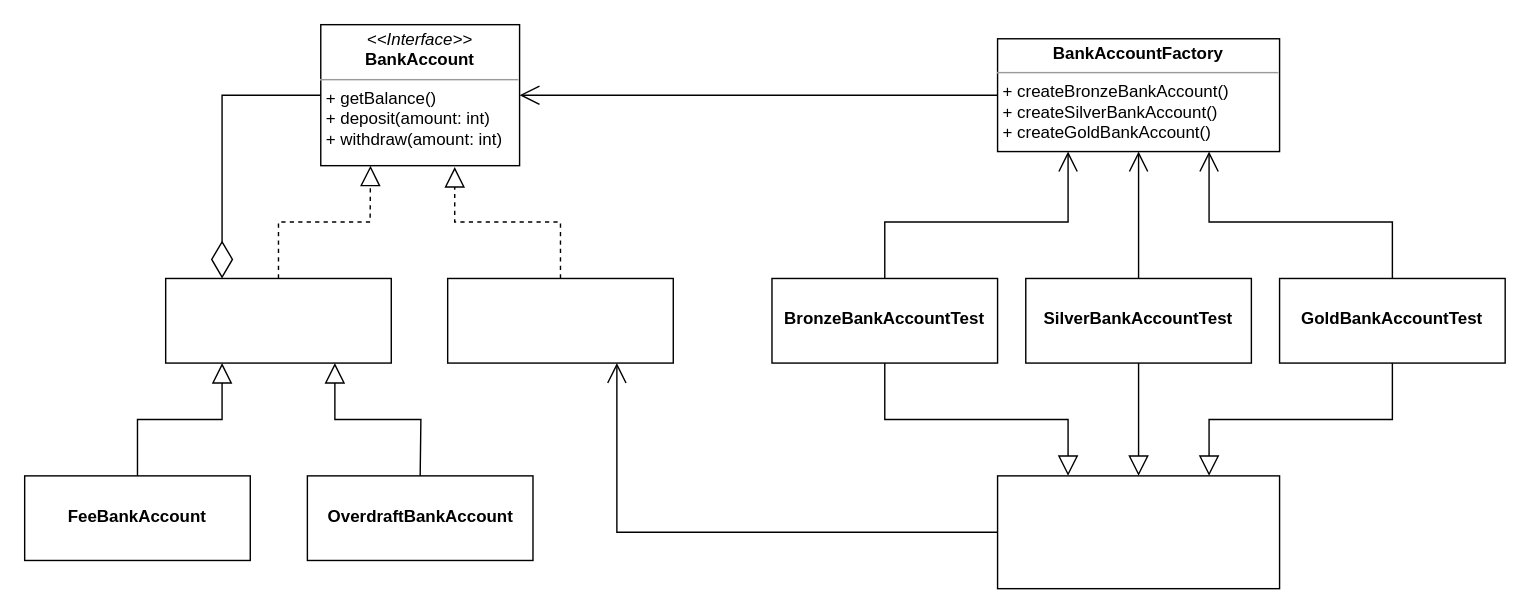
Some shapes in this 1530 by 613 pixel diagram are drawn without their labels. Here are the shapes that lost their labels. From the top down, the centre of each, then its label:
At point 277,320: "DecoratorBankAccount".
At point 559,320: "CoreBankAccount".
At point 1138,531: "CoreBankAccountTest + init() + testInitiallyEmpty() ...".
